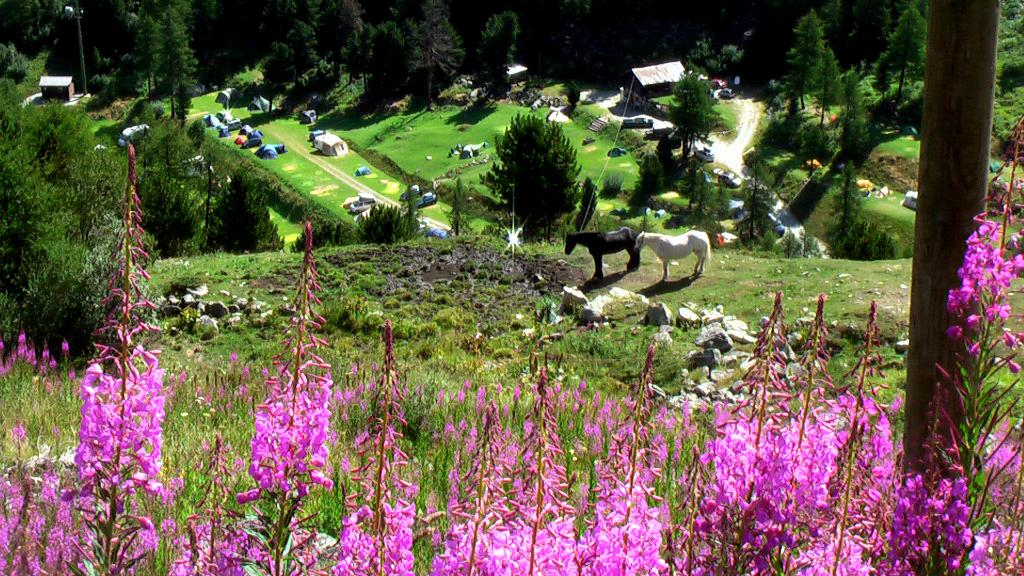horse: (633, 229, 712, 282)
